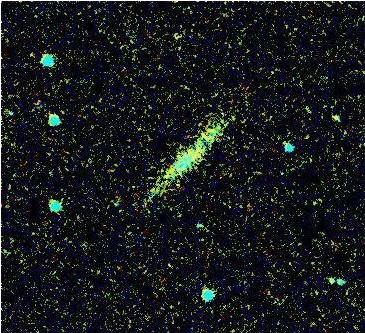star: (17, 42, 47, 72)
